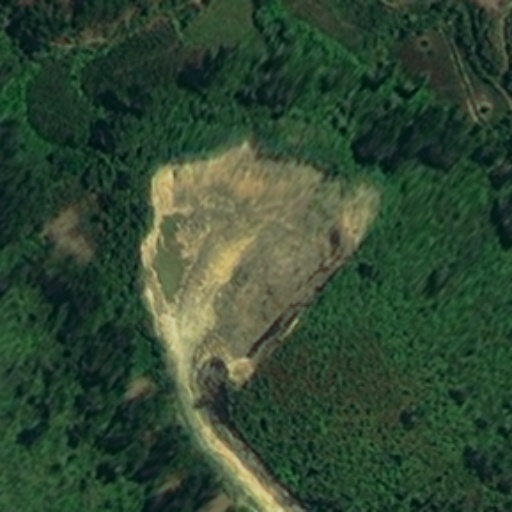landslide: (140, 143, 374, 294)
